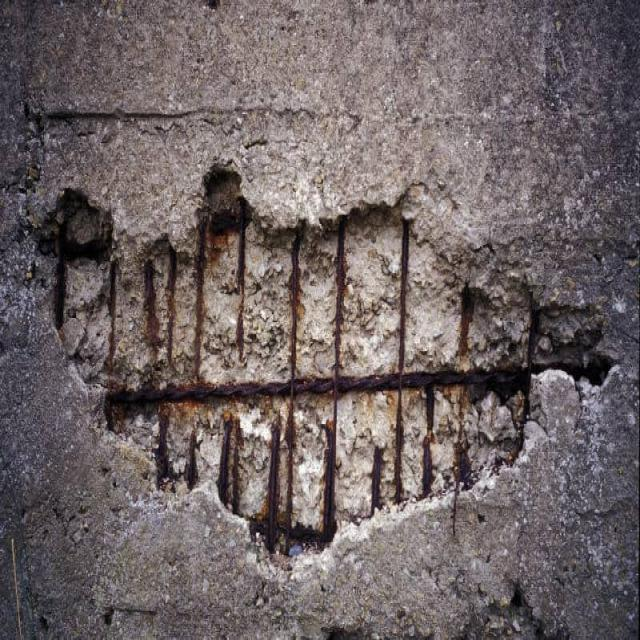Spalling: (35, 162, 618, 574)
corrosion: (117, 372, 530, 405), (335, 218, 345, 374), (267, 432, 279, 553), (255, 523, 332, 541), (326, 430, 336, 538)
